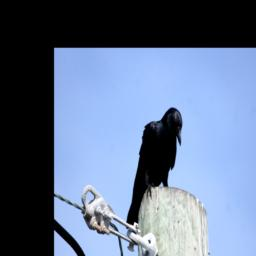Crow: (126, 107, 183, 231)
